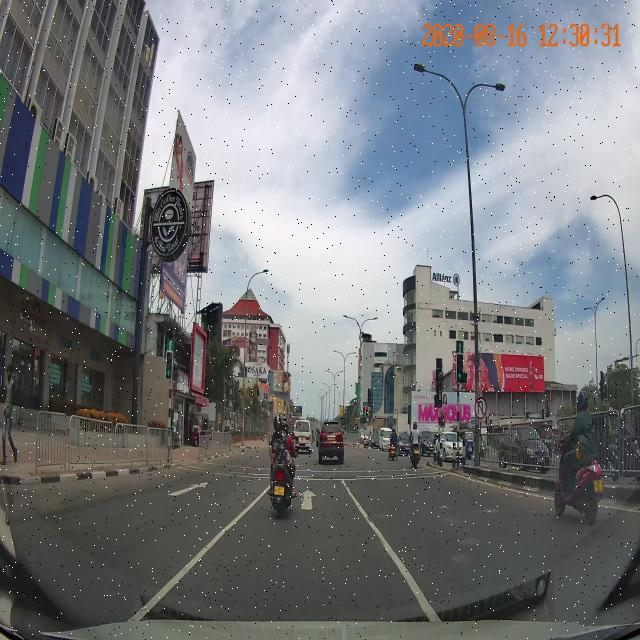forward: (292, 478, 377, 527)
